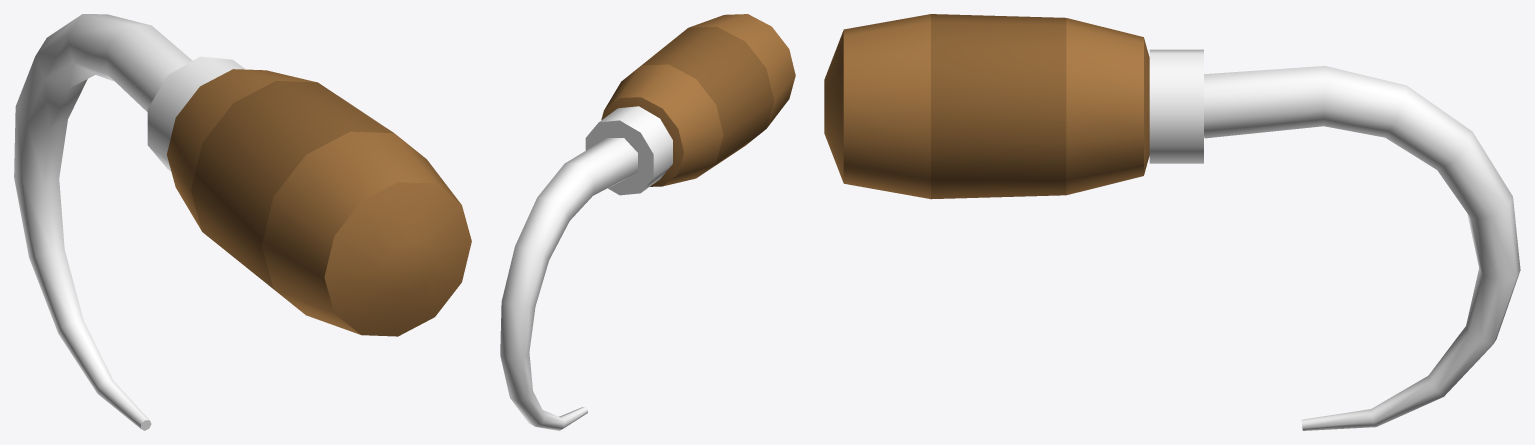
The model's file is hay_hook.glb.
3 renders of one model, left to right at view 1: azimuth 30°, elevation 25°; view 2: azimuth 150°, elevation 25°; view 3: azimuth 270°, elevation 25°, orthographic. The views are drawn at different scales.
Visible parts, largest first — view 1: HayHook; view 2: HayHook; view 3: HayHook.
Part boxes in pixels (x1=…): HayHook: x1=14, y1=14, x2=471, y2=430; HayHook: x1=500, y1=14, x2=795, y2=430; HayHook: x1=824, y1=14, x2=1520, y2=430.
Size of the model in its own units: 0.096 by 0.2325 by 0.3595.
